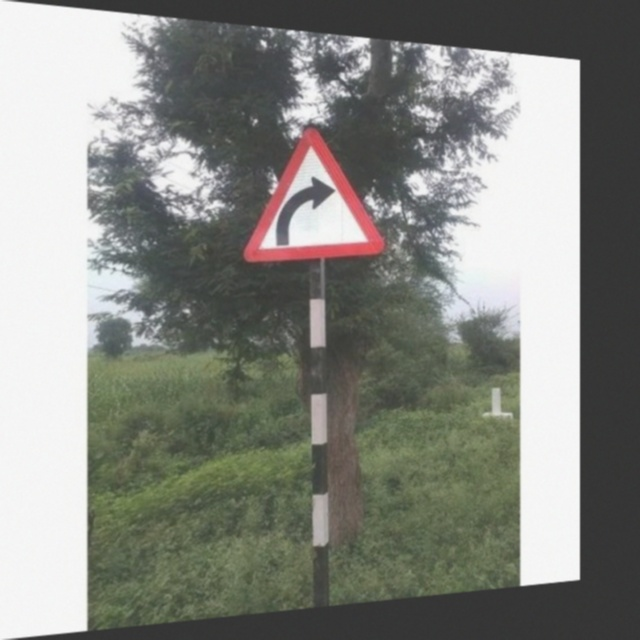Right_Hand_Curve: (239, 121, 390, 263)
